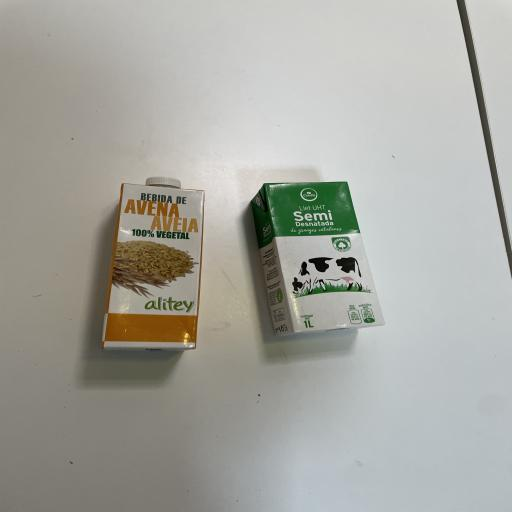milk: (245, 172, 387, 348)
oat_milk: (94, 173, 213, 360)
